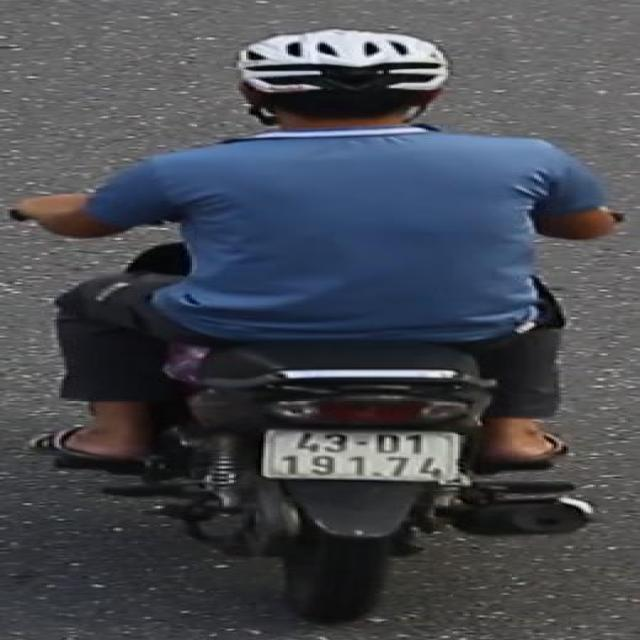LP: (247, 424, 469, 487)
helmet: (225, 22, 462, 149)
